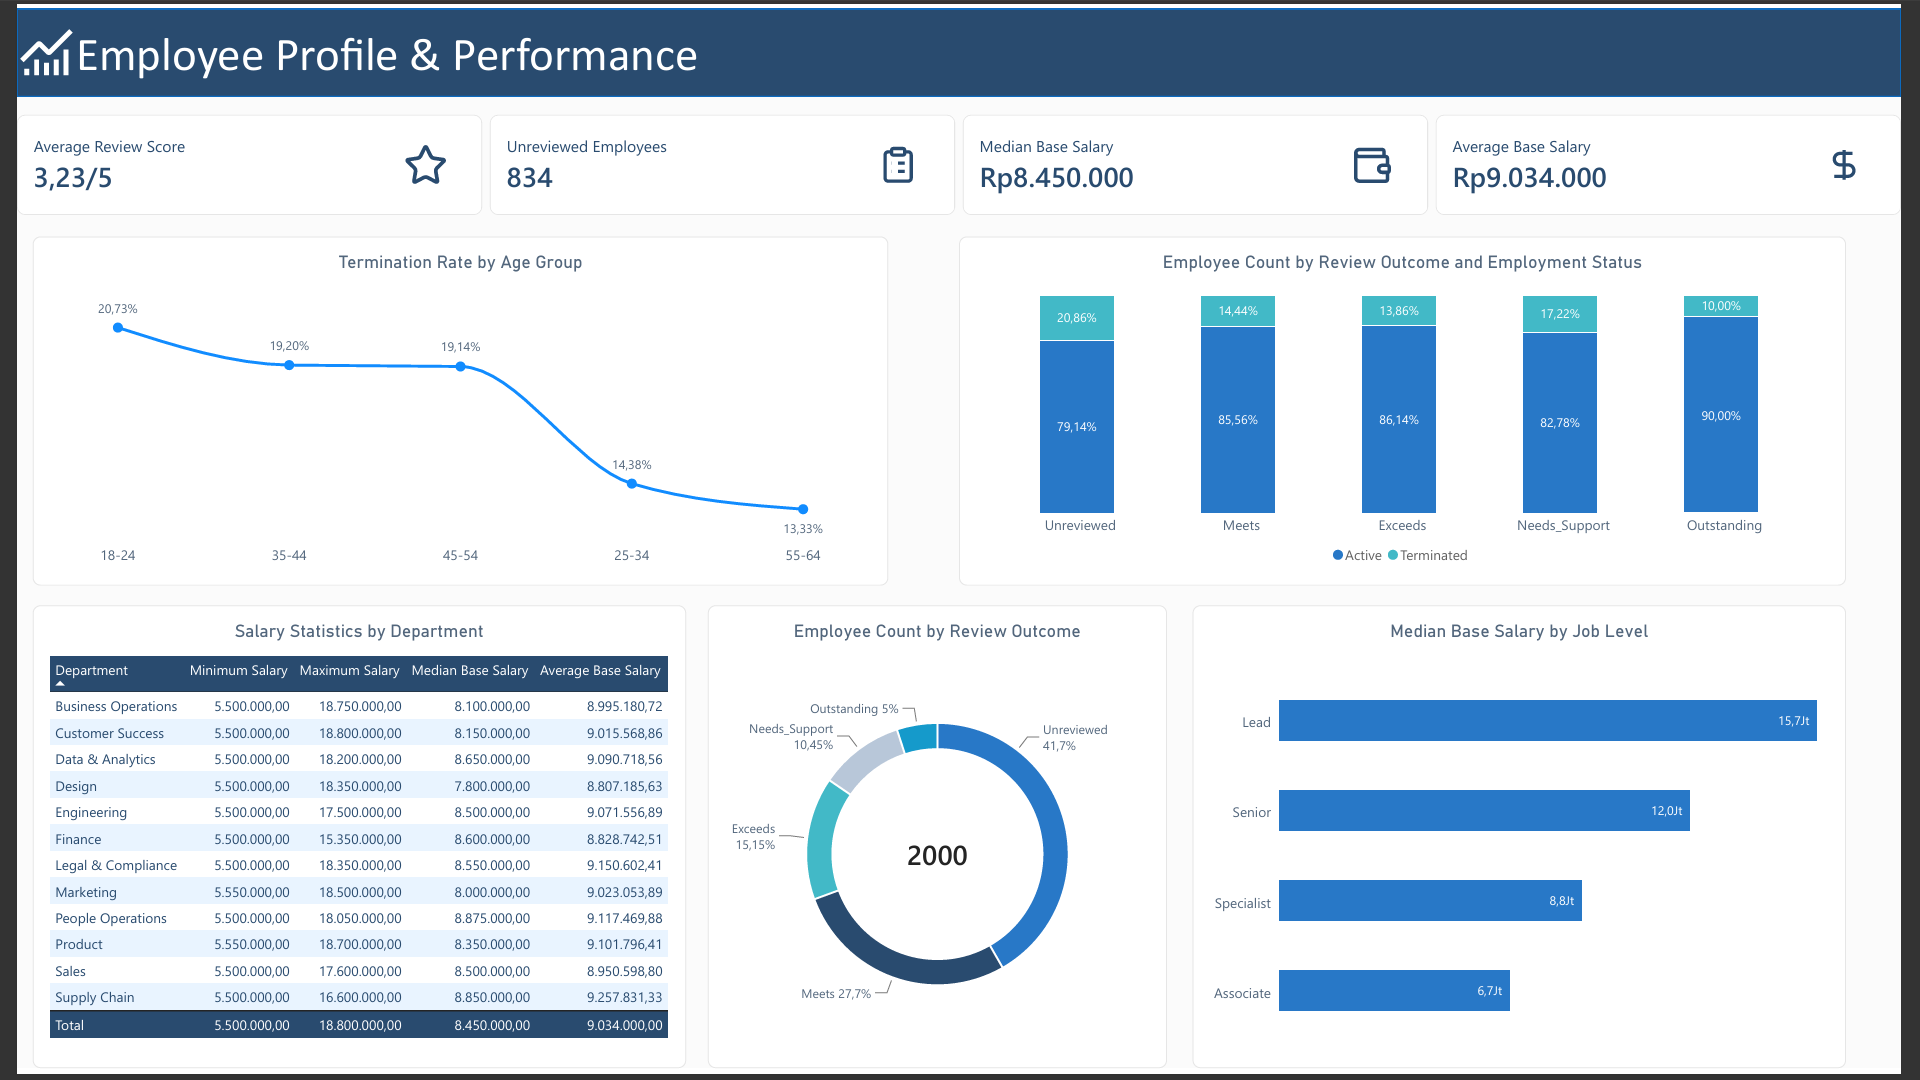

The dashboard page shown, as its layout file describes it:
{"tool":"powerbi","page":{"name":"Employee Profile & Performance","canvas":[1920,1080],"ordinal":2},"visuals":[{"type":"shape","box":[0,0,1920,89.7],"z":0},{"type":"lineChart","title":"Termination Rate by Age Group","fields":{"Category":["employees.age_band"],"Y":["_DAX.Persentase Karyawan Keluar"]},"box":[16,232,872,356],"z":1000},{"type":"donutChart","title":"Employee Count by Review Outcome","fields":{"Category":["employees.Hasil Review"],"Y":["CountNonNull(employees.employee_id)"]},"box":[704,608,468,472],"z":2000},{"type":"cardVisual","fields":{"Data":["_DAX.Average Review Score Display","_DAX.Penilaian Kosong","_DAX.Median Gaji Pokok","_DAX.Rata-Rata Gaji Pokok"]},"box":[0,107.5,1920,102.5],"z":3000},{"type":"barChart","title":"Median Base Salary by Job Level","fields":{"Category":["job_roles.job_level"],"Y":["Median(employment_records.base_salary)"]},"box":[1198,608,666,472],"z":4000},{"type":"hundredPercentStackedColumnChart","title":"Employee Count by Review Outcome and Employment Status","fields":{"Category":["employees.Hasil Review"],"Series":["employment_records.employment_status"],"Y":["CountNonNull(employment_records.employee_id)"]},"box":[960,232,904,356],"z":5000},{"type":"tableEx","title":"Salary Statistics by Department","fields":{"Values":["departments.department_name","_DAX.Gaji Minimum","_DAX.Gaji Maksimum","_DAX.Median Gaji Pokok","_DAX.Rata-Rata Gaji Pokok"]},"box":[16,608,666,472],"z":6000},{"type":"textbox","box":[60,16,674,74],"z":7000},{"type":"image","box":[0,0,60,90],"z":8000}]}

Visuals, with their boxes in screenshot pixels (x1, y1, x2, y2), scaled from the page's 1920x1080 canvas onto the 1920x1080 screenshot:
shape: locate(0, 0, 1919, 90)
"Termination Rate by Age Group" lineChart: locate(16, 232, 888, 588)
"Employee Count by Review Outcome" donutChart: locate(704, 608, 1172, 1079)
cardVisual - _DAX.Average Review Score Display x _DAX.Penilaian Kosong: locate(0, 108, 1919, 210)
"Median Base Salary by Job Level" barChart: locate(1198, 608, 1864, 1079)
"Employee Count by Review Outcome and Employment Status" hundredPercentStackedColumnChart: locate(960, 232, 1864, 588)
"Salary Statistics by Department" tableEx: locate(16, 608, 682, 1079)
textbox: locate(60, 16, 734, 90)
image: locate(0, 0, 60, 90)
